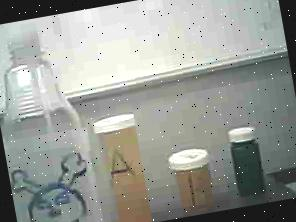Bottle A: (93, 110, 158, 222)
Bottle B: (164, 142, 222, 216)
Bottle C: (224, 118, 284, 203)
hazard: (0, 11, 110, 222)
